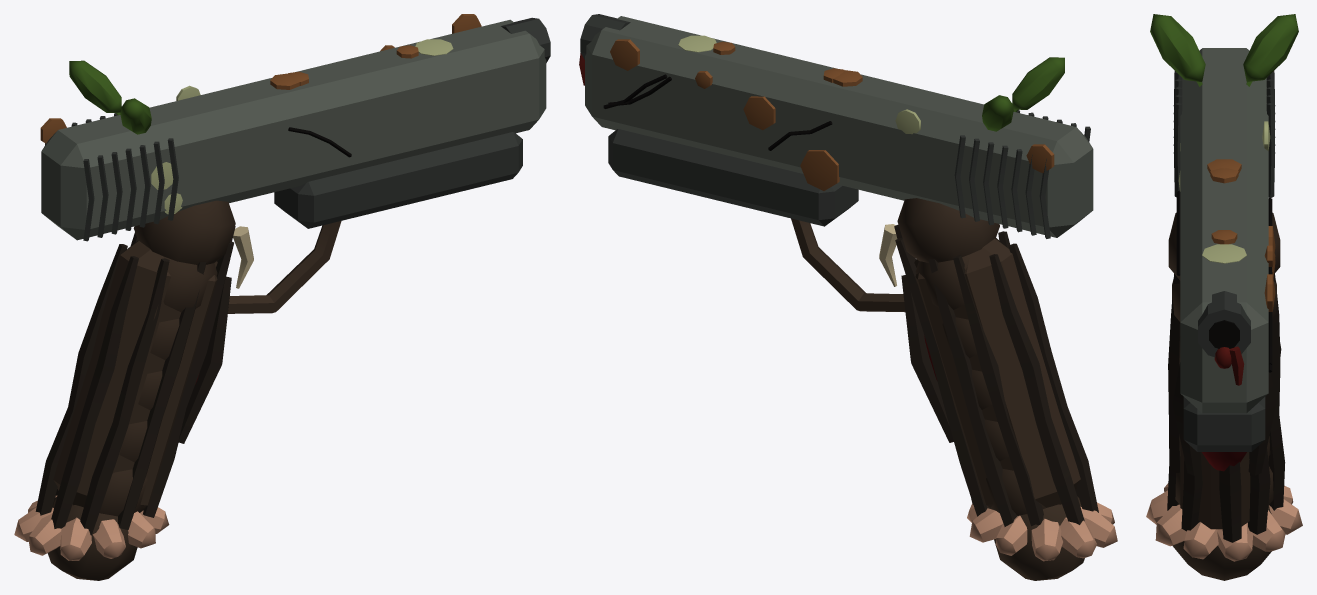
File: e39_gun.glb
3 renders of one model, left to right at view 1: azimuth 30°, elevation 25°; view 2: azimuth 150°, elevation 25°; view 3: azimuth 270°, elevation 25°, orthographic. The views are drawn at different scales.
Parts seen in each view (by area): view 1: teil5, teil2, teil6, teil0, teil1, teil4, teil12, teil10, teil9, teil11; view 2: teil5, teil2, teil6, teil0, teil1, teil4, teil10, teil12, teil9, teil7, teil11; view 3: teil5, teil2, teil6, teil4, teil12, teil0, teil1, teil10, teil7, teil9, teil8, teil3.
Boxes of the visible parts, <box> form: teil5: <box>41,19,546,240</box>; teil2: <box>35,226,235,535</box>; teil6: <box>45,17,550,241</box>; teil0: <box>47,200,341,580</box>; teil1: <box>53,241,217,508</box>; teil4: <box>14,495,169,560</box>; teil12: <box>69,60,151,134</box>; teil10: <box>40,14,481,143</box>; teil9: <box>151,39,453,214</box>; teil11: <box>233,226,253,288</box>; teil5: <box>585,16,1093,237</box>; teil2: <box>894,224,1098,526</box>; teil6: <box>580,14,1090,238</box>; teil0: <box>791,198,1084,580</box>; teil1: <box>914,238,1080,507</box>; teil4: <box>967,502,1117,561</box>; teil10: <box>610,39,1054,190</box>; teil12: <box>982,57,1064,131</box>; teil9: <box>678,35,920,134</box>; teil7: <box>603,74,832,150</box>; teil11: <box>879,224,897,286</box>; teil5: <box>1180,48,1268,413</box>; teil2: <box>1167,274,1285,542</box>; teil6: <box>1173,71,1275,451</box>; teil4: <box>1146,483,1302,561</box>; teil12: <box>1150,14,1298,86</box>; teil0: <box>1168,212,1280,580</box>; teil1: <box>1180,440,1268,529</box>; teil10: <box>1207,71,1275,311</box>; teil7: <box>1176,191,1272,372</box>; teil9: <box>1178,121,1270,263</box>; teil8: <box>1214,346,1244,385</box>; teil3: <box>1202,452,1246,471</box>.
Bounding box in the file's own units: 0.2044 × 0.1836 × 0.0461.
